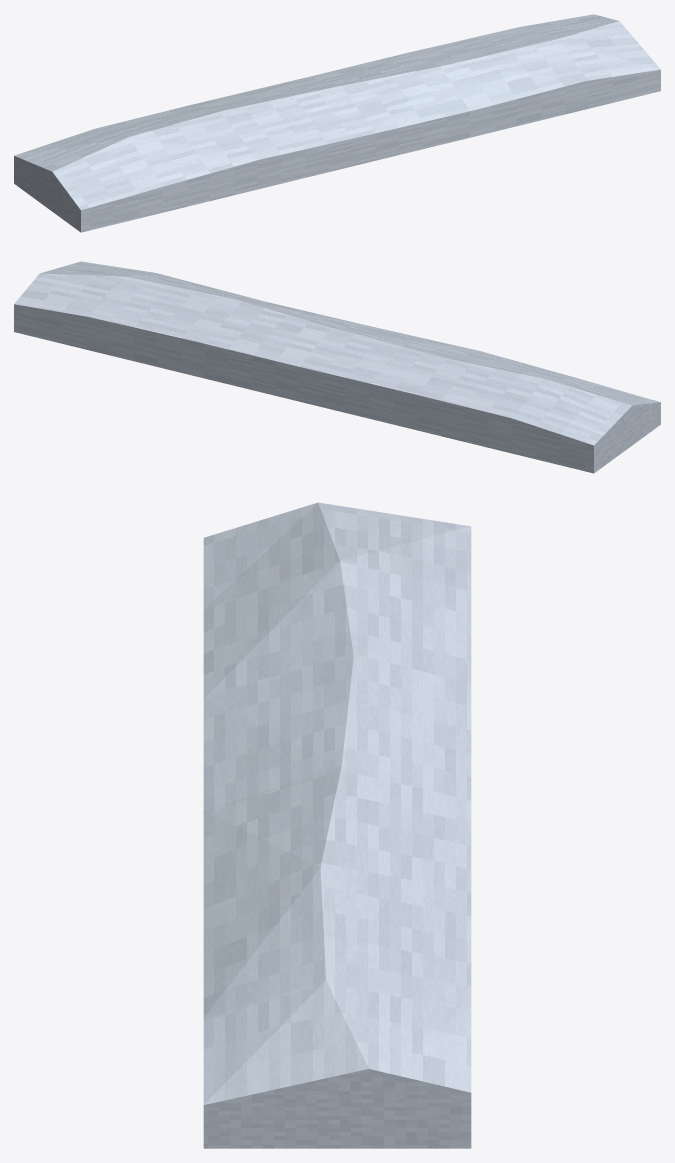
The model's file is snow_ledge.glb.
3 renders of one model, top to bottom at view 1: azimuth 30°, elevation 25°; view 2: azimuth 150°, elevation 25°; view 3: azimuth 270°, elevation 25°, orthographic. The views are drawn at different scales.
Visible parts, largest first — view 1: snow_ledge; view 2: snow_ledge; view 3: snow_ledge.
Part boxes in pixels (<box>): snow_ledge: <box>14,14,660,232</box>; snow_ledge: <box>14,261,660,473</box>; snow_ledge: <box>203,502,471,1148</box>.
Size of the model in its own units: 1.2 by 0.1 by 0.24.
1 material, 1 textured.
